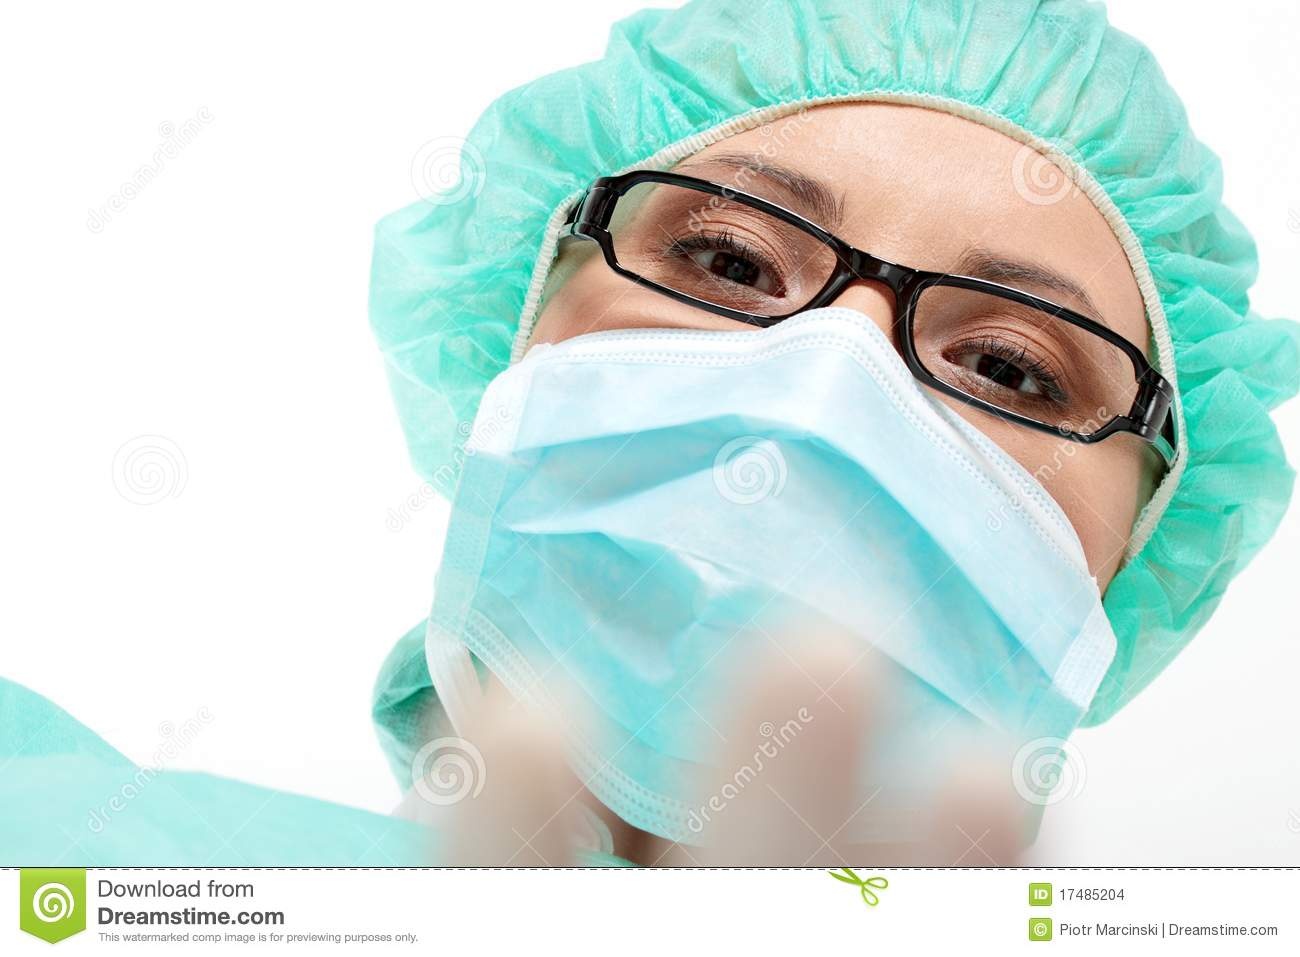mask: (416, 336, 1055, 852)
